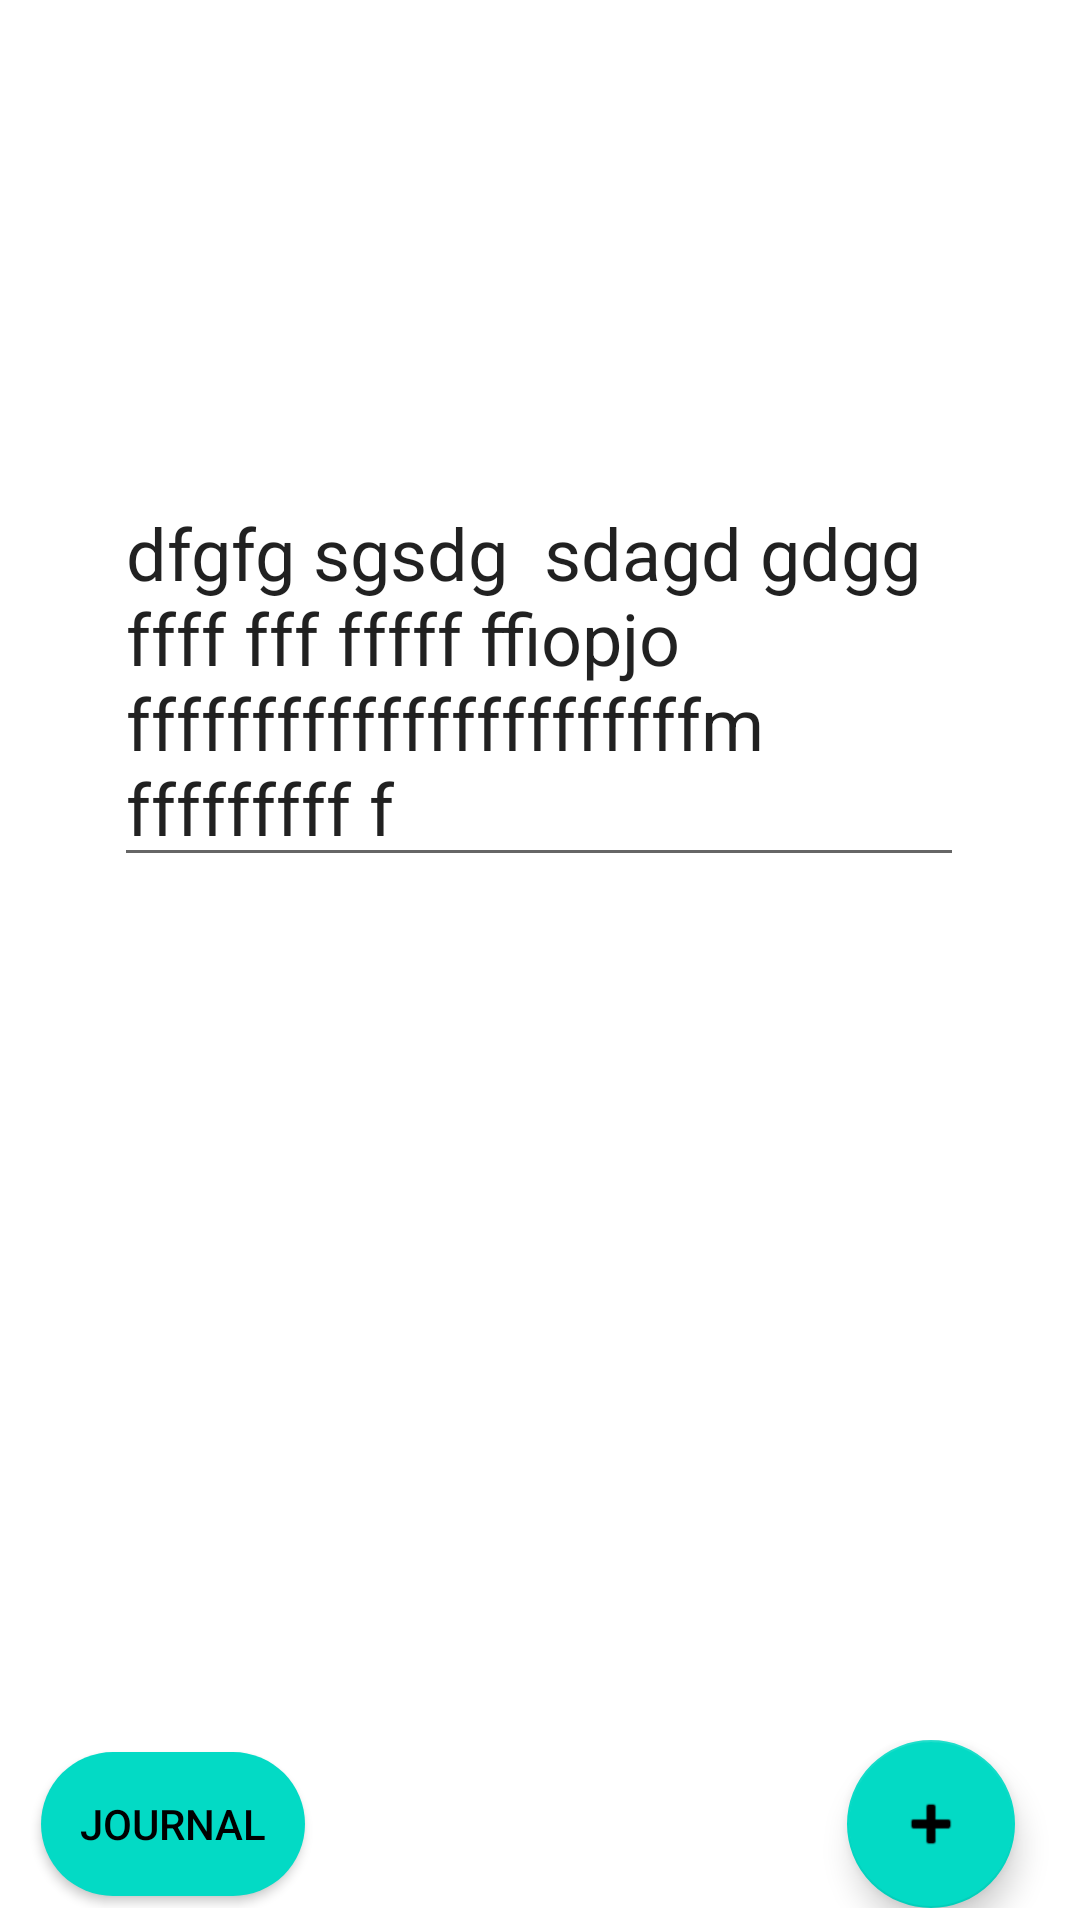

Where to tap for icons on this 1080 x 1920 app screen, as (x=x, y=y):
add: (x=931, y=1824)
